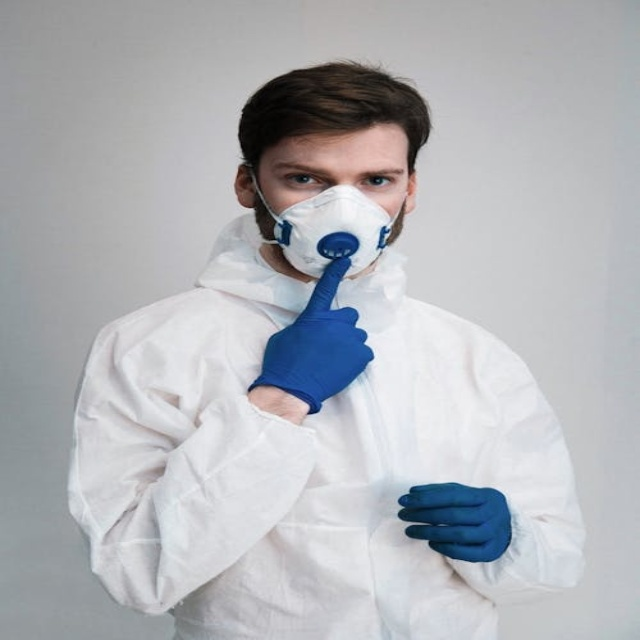Guantes: (249, 251, 374, 415), (399, 482, 511, 563)
Mascara: (254, 170, 399, 278)
Sin_gafas: (266, 156, 404, 191)
